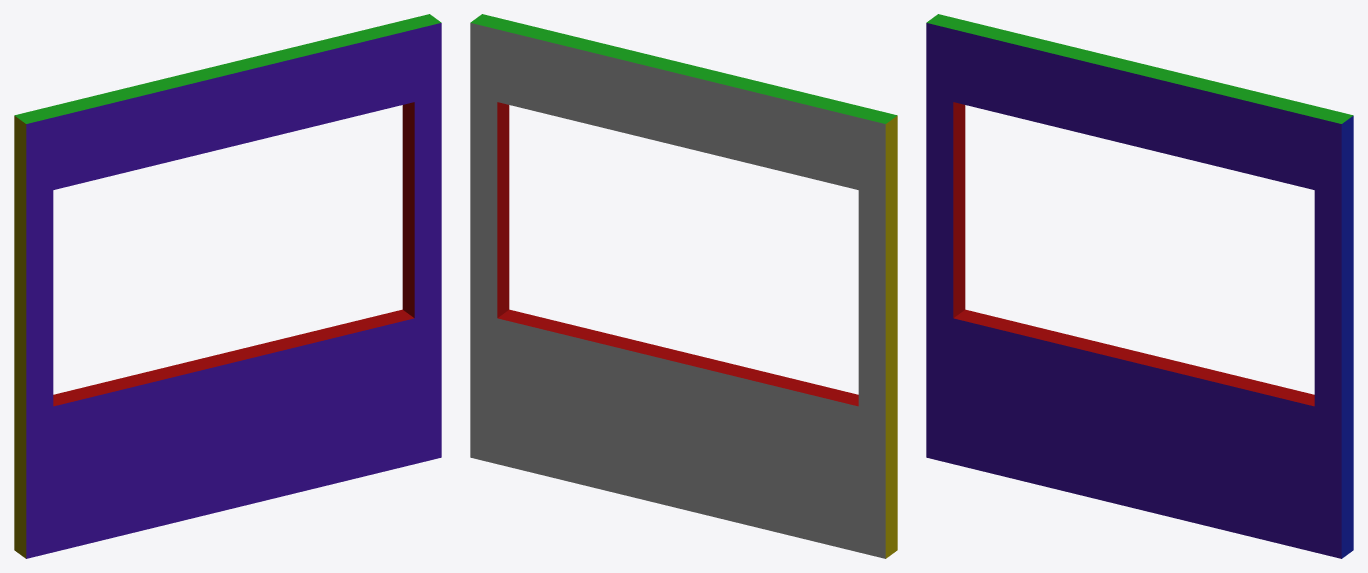
The model's file is Wall_Window_05a.fbx.
3 renders of one model, left to right at view 1: azimuth 30°, elevation 25°; view 2: azimuth 150°, elevation 25°; view 3: azimuth 330°, elevation 25°, orthographic.
Visible parts, largest first — view 1: Wall_Window_05a; view 2: Wall_Window_05a; view 3: Wall_Window_05a.
Boxes of the visible parts, x1=… form: Wall_Window_05a: x1=14, y1=14, x2=441, y2=558; Wall_Window_05a: x1=470, y1=14, x2=897, y2=558; Wall_Window_05a: x1=926, y1=14, x2=1353, y2=558.
Bounding box in the file's own units: 3 × 0.15 × 3.
